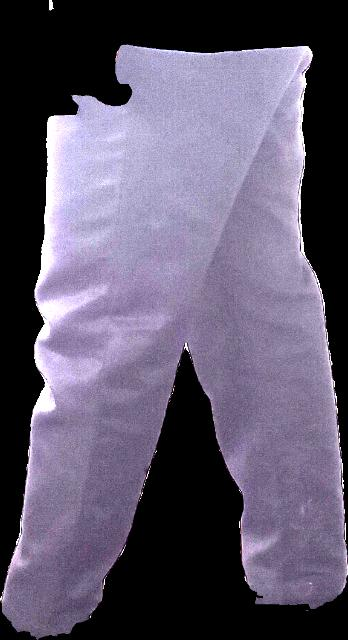blackpants: (0, 45, 347, 639)
